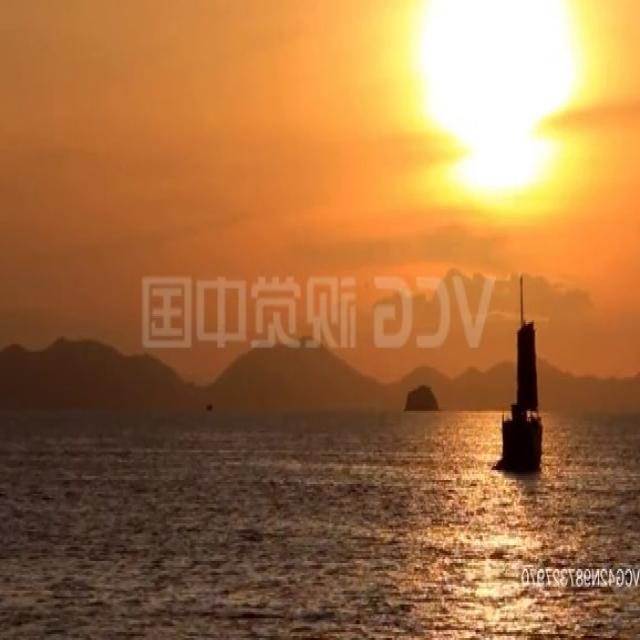sailboat: (508, 272, 548, 463)
